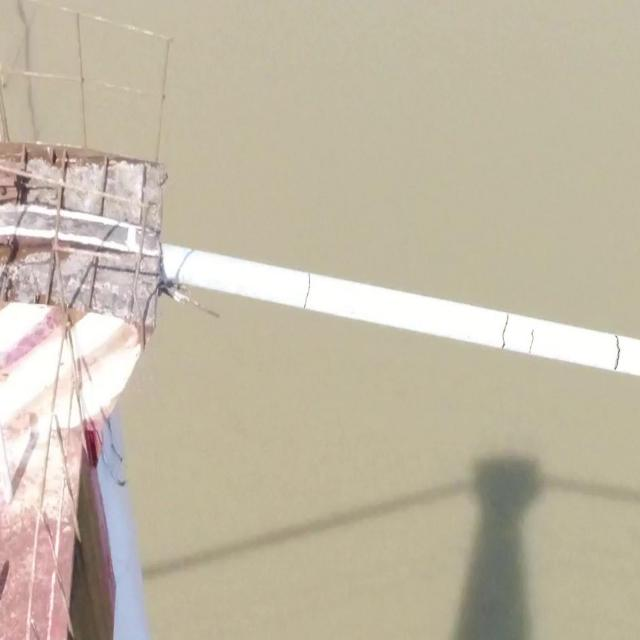crack: (304, 273, 312, 309), (501, 314, 509, 349), (614, 336, 622, 371), (528, 329, 534, 354)
